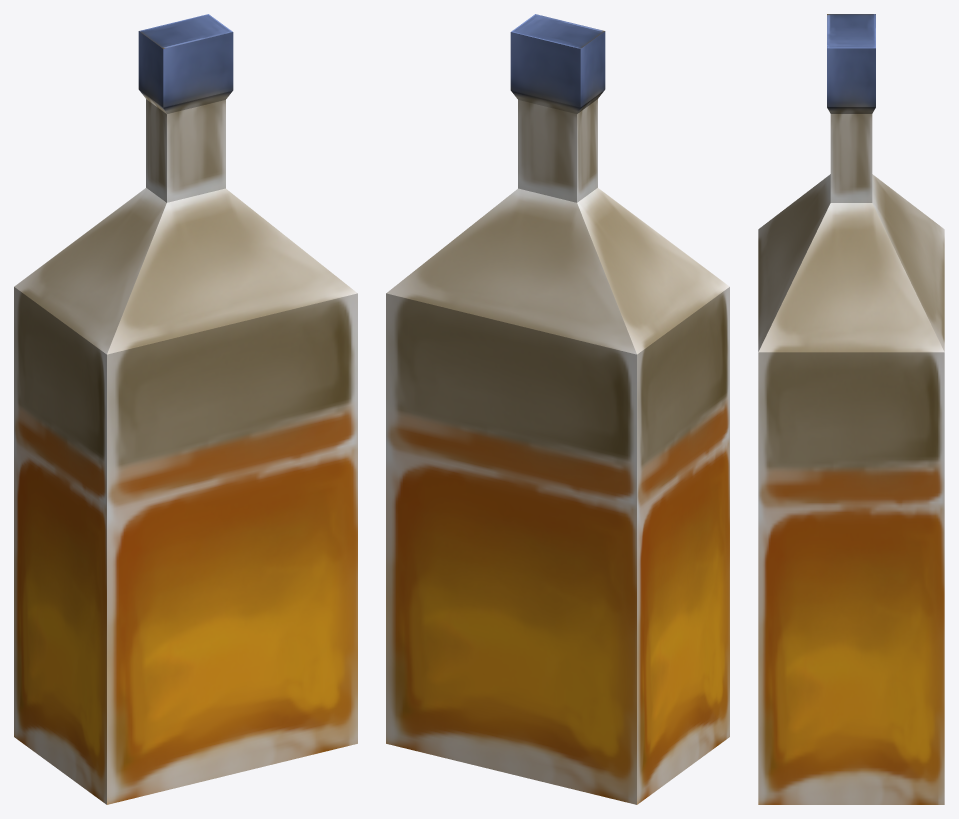
File: JiuPing04.FBX
3 views of the same model, side by side, from view 1: azimuth 30°, elevation 25°; view 2: azimuth 150°, elevation 25°; view 3: azimuth 270°, elevation 25° (orthographic).
Parts seen in each view (by area): view 1: JiuPing04; view 2: JiuPing04; view 3: JiuPing04.
Part boxes in pixels (bbox=[...]): JiuPing04: bbox=[14, 14, 357, 804]; JiuPing04: bbox=[386, 14, 729, 804]; JiuPing04: bbox=[758, 14, 944, 804].
Bounding box in the file's own units: 9.88 × 26.66 × 6.32.
